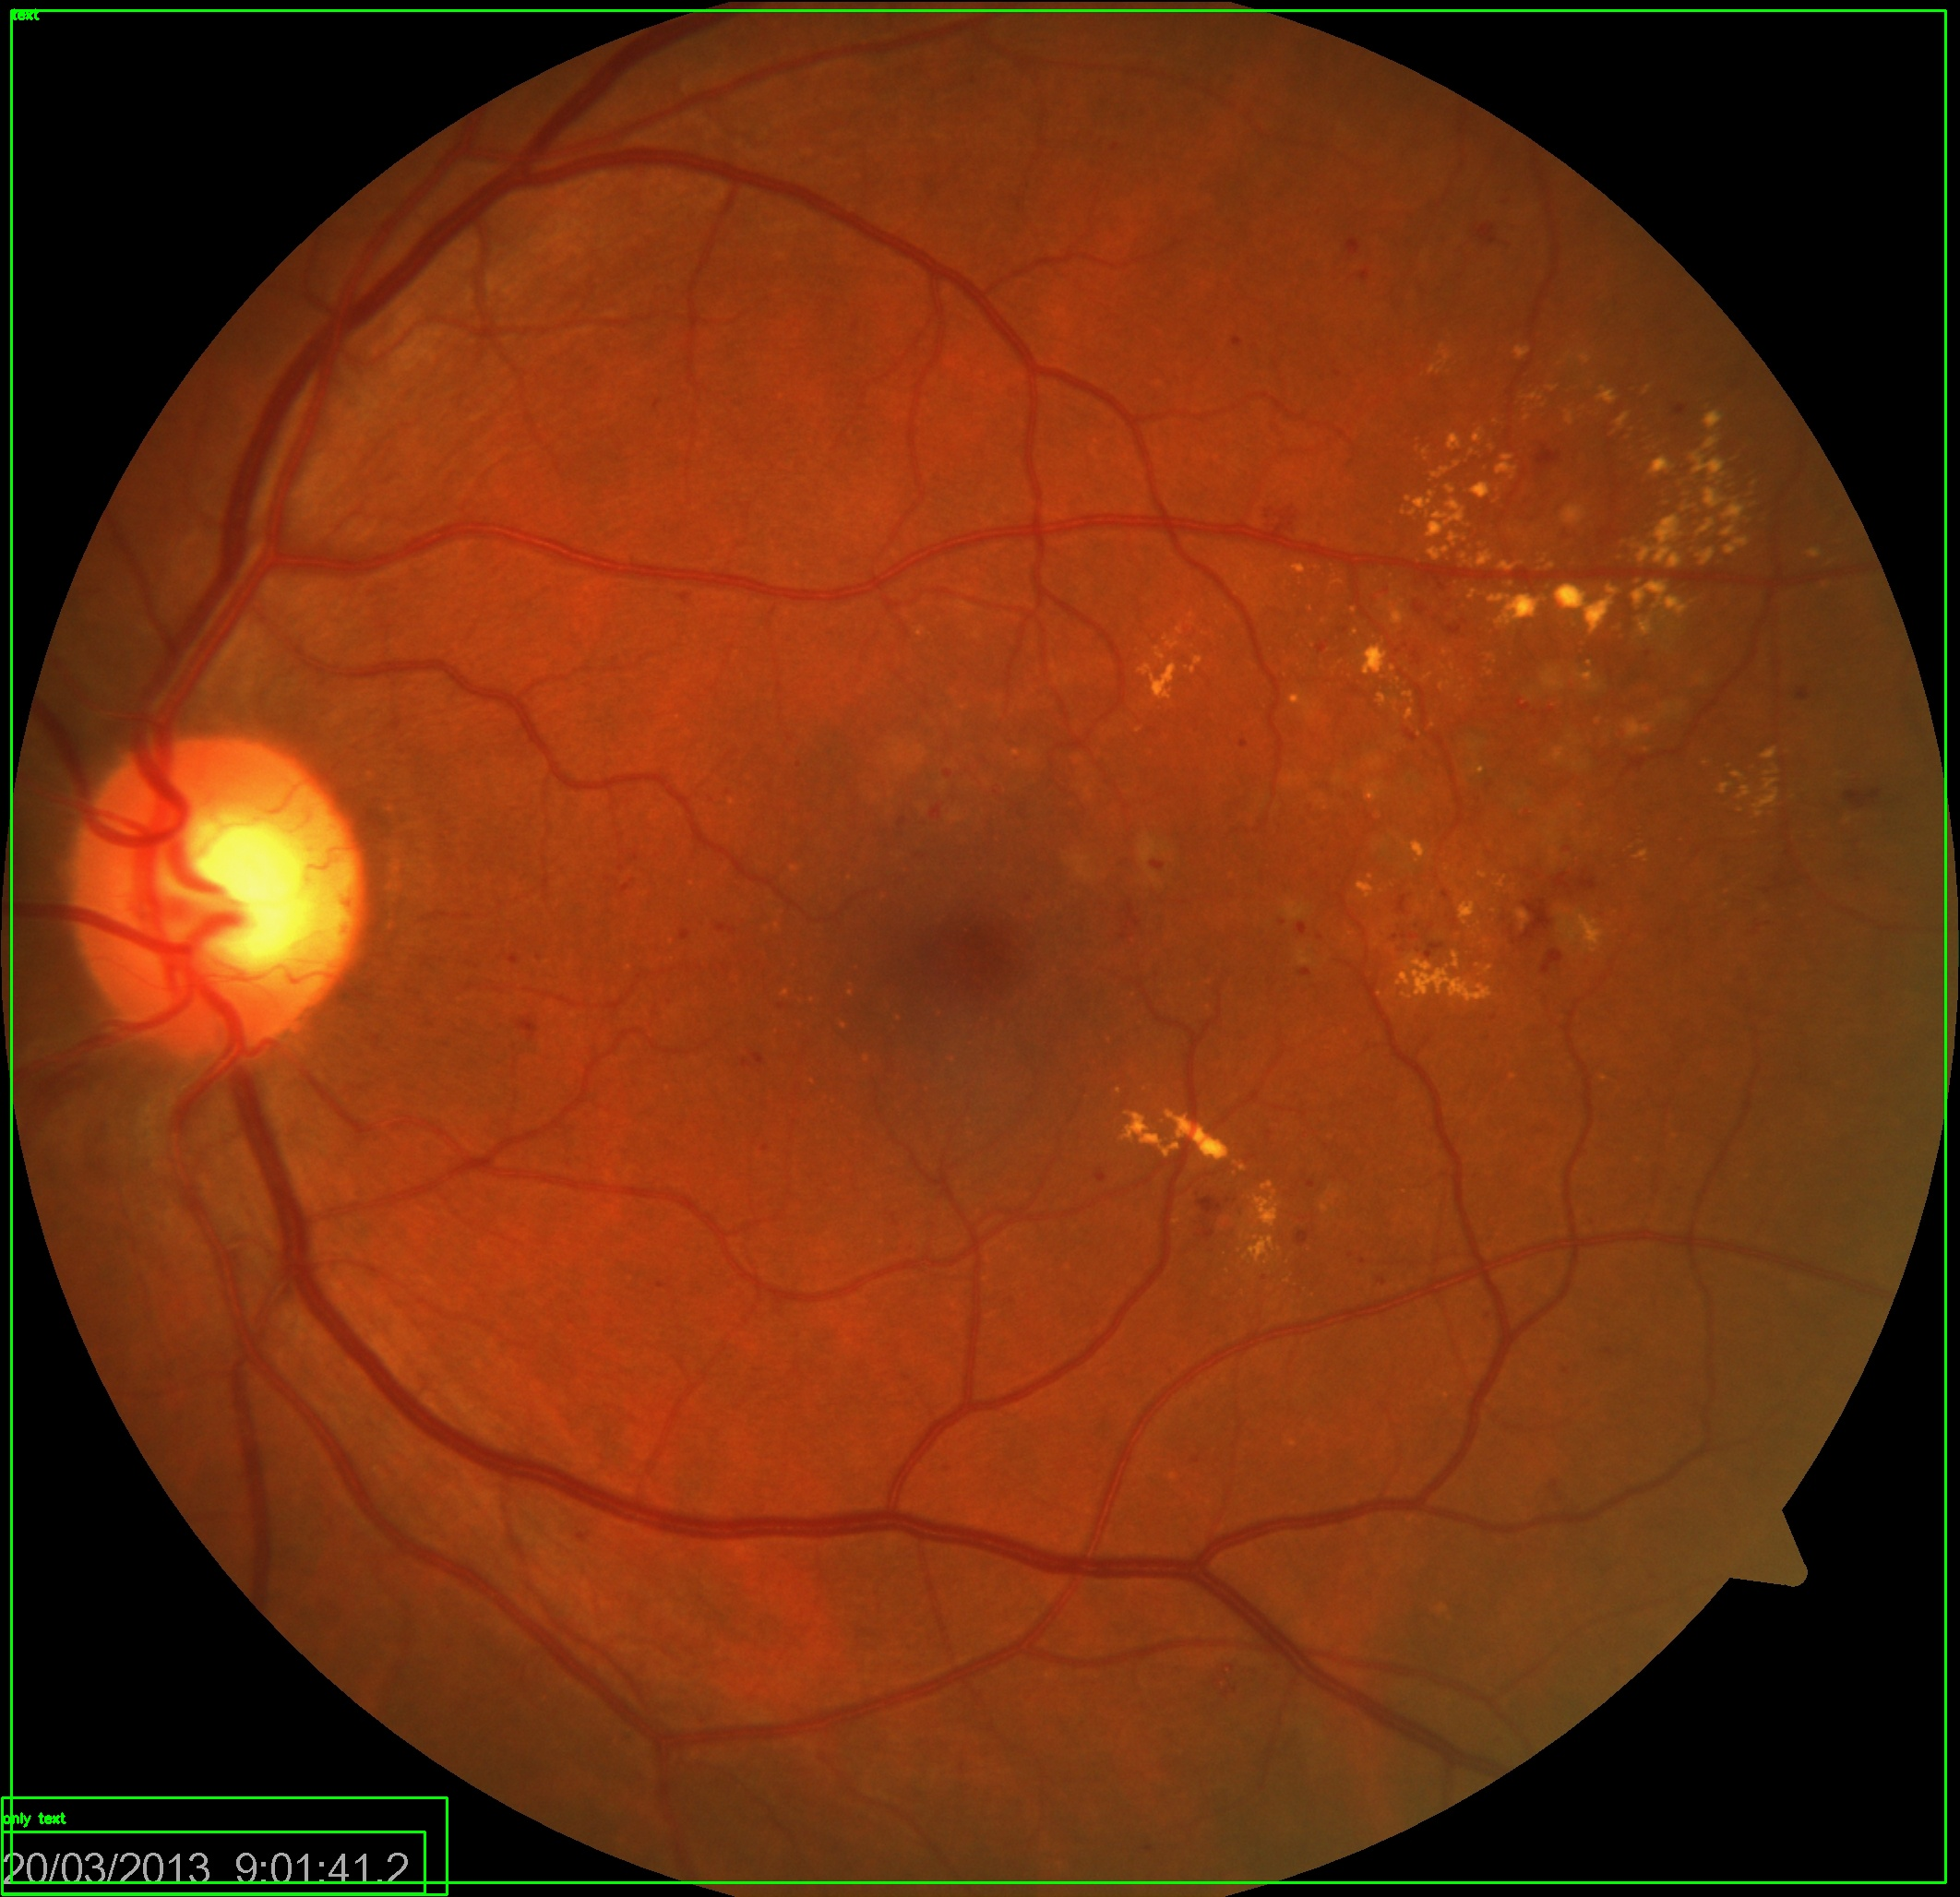text: (10, 10, 1946, 1883), (2, 1797, 446, 1894), (2, 1832, 425, 1894)
